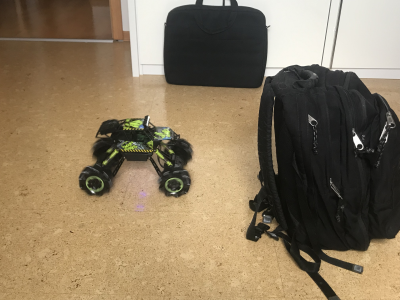remote control car: (77, 114, 194, 200)
